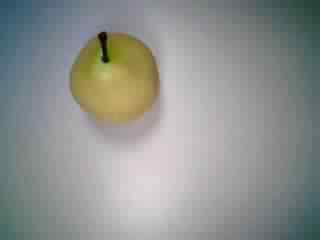pear: (62, 27, 161, 130)
